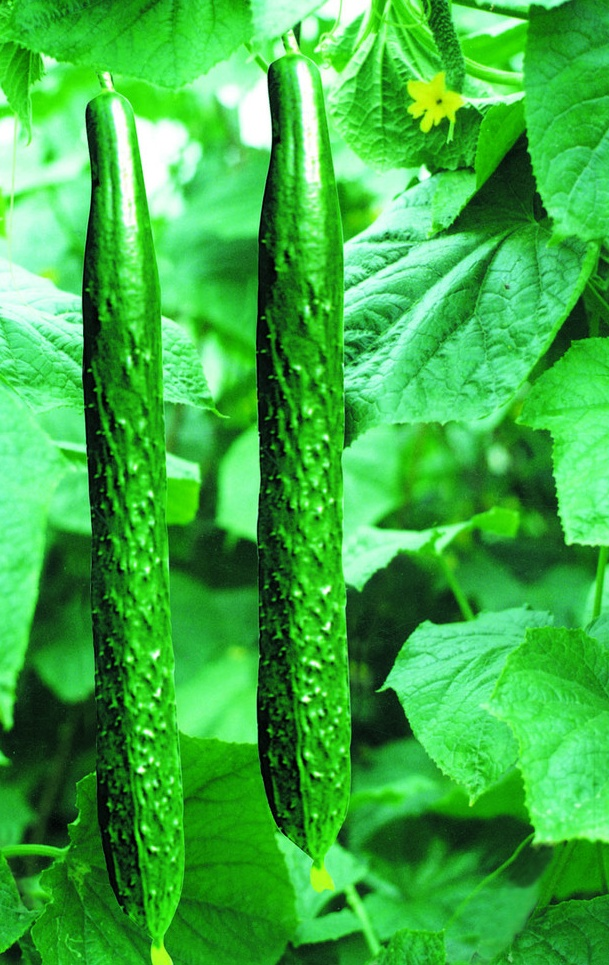cucumber: (83, 94, 193, 949), (255, 54, 361, 870)
cucumber_plant: (364, 13, 604, 404)
